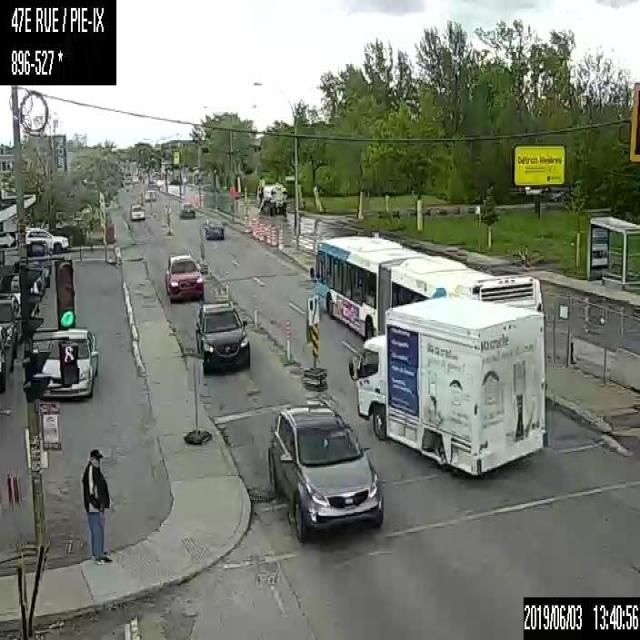bus: (309, 232, 543, 396)
construction: (270, 225, 276, 245), (286, 320, 289, 360), (258, 222, 264, 242), (253, 219, 258, 239), (278, 230, 283, 249), (253, 299, 256, 328), (266, 223, 270, 243), (225, 278, 229, 298)
pedestrian: (81, 448, 112, 564)
vehicle: (349, 295, 546, 476), (266, 401, 384, 543), (34, 324, 97, 396), (196, 301, 250, 376), (165, 252, 204, 302), (0, 272, 39, 316), (0, 293, 22, 363), (25, 224, 67, 253), (252, 179, 286, 213), (0, 325, 15, 391), (202, 216, 224, 239), (179, 200, 195, 217), (129, 202, 145, 218), (144, 185, 156, 200)
